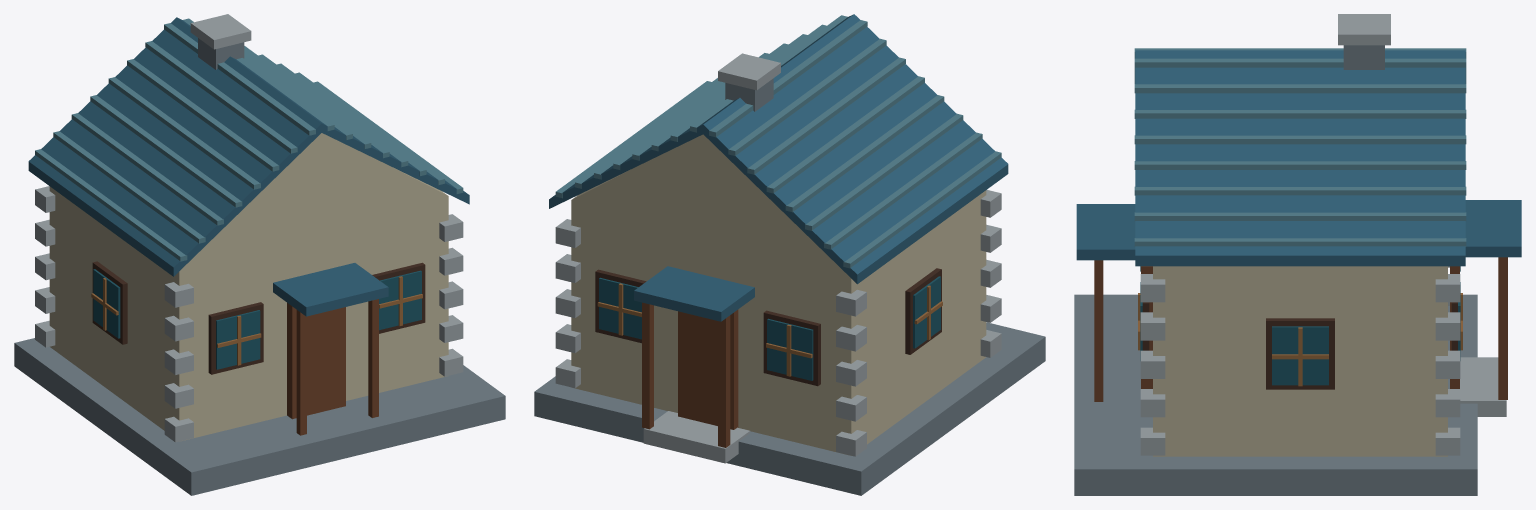
The model's file is Blockland_VillageHouse_Standard.glb.
3 views of the same model, side by side, from view 1: azimuth 30°, elevation 25°; view 2: azimuth 150°, elevation 25°; view 3: azimuth 270°, elevation 25° (orthographic). The views are drawn at different scales.
Visible parts, largest first — view 1: Blockland_VillageHouse_Standard; view 2: Blockland_VillageHouse_Standard; view 3: Blockland_VillageHouse_Standard.
Part boxes in pixels (bbox=[...]): Blockland_VillageHouse_Standard: bbox=[14, 14, 505, 495]; Blockland_VillageHouse_Standard: bbox=[534, 14, 1045, 495]; Blockland_VillageHouse_Standard: bbox=[1074, 14, 1521, 495].
Bounding box in the file's own units: 4.2 × 4.31 × 4.55.
